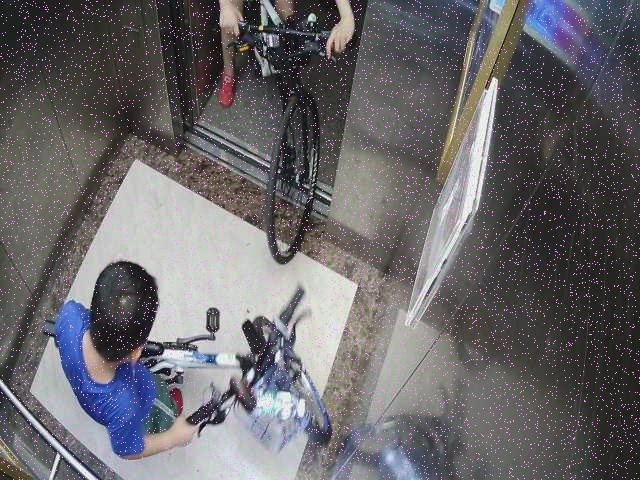bicycle: (215, 8, 375, 274), (136, 296, 350, 459)
person: (33, 254, 205, 461)
